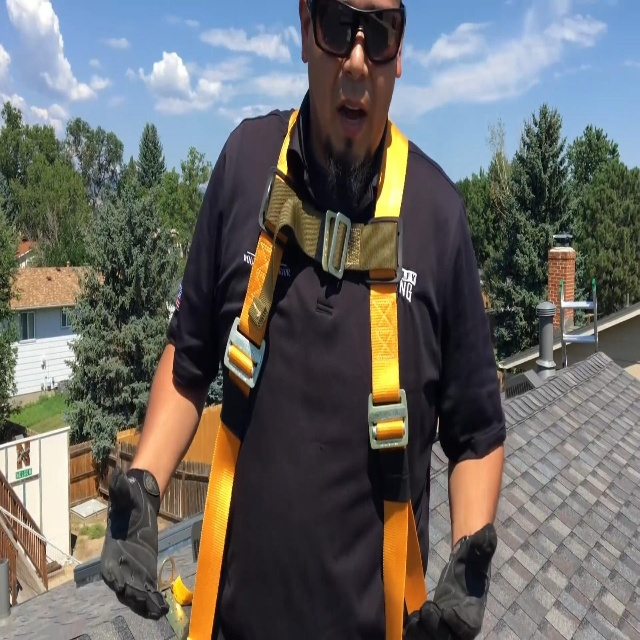Arnes_seguridad: (178, 86, 439, 640)
